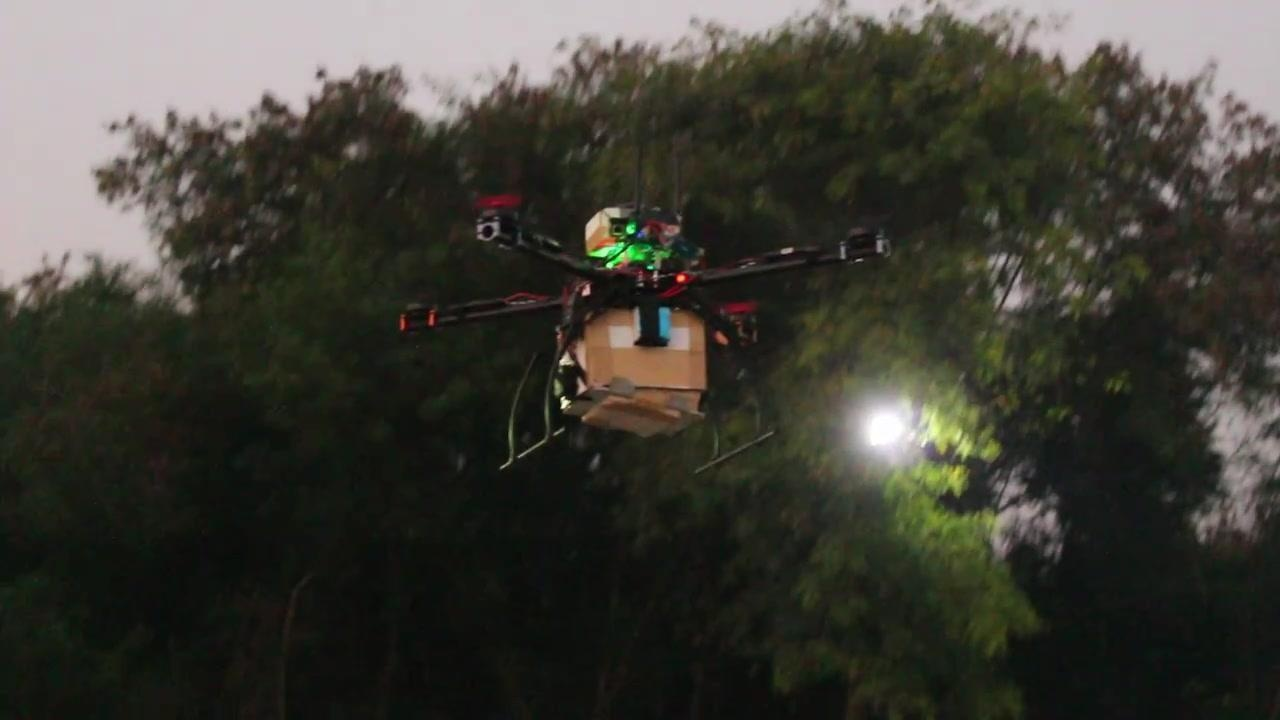UAV: (399, 193, 894, 476)
